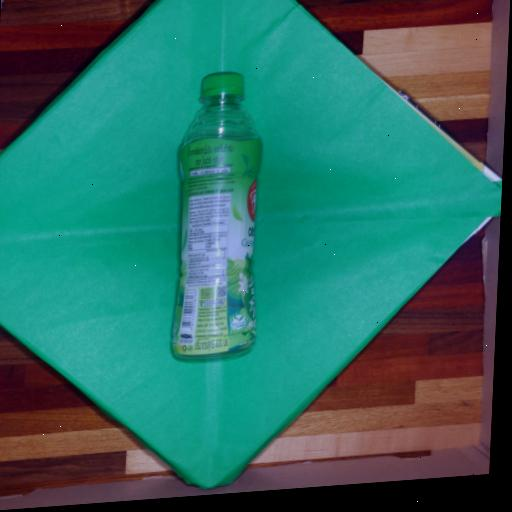bottle: (163, 65, 272, 366)
